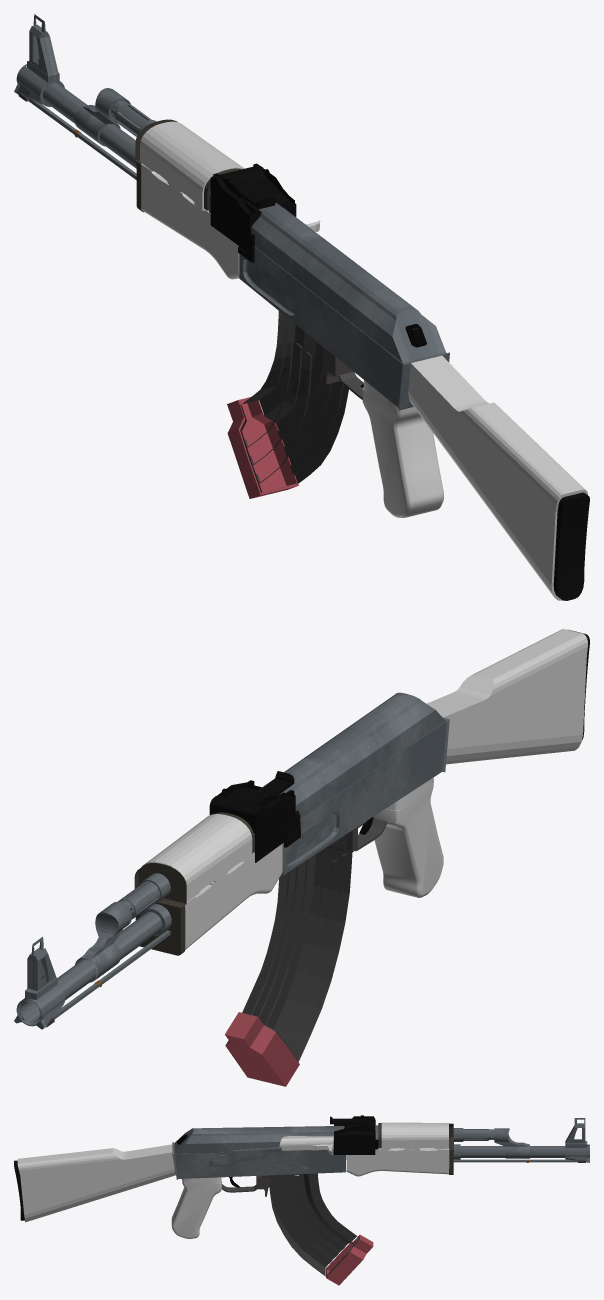
The picture shows the model from 3 angles, top to bottom: view 1: azimuth 30°, elevation 25°; view 2: azimuth 150°, elevation 25°; view 3: azimuth 270°, elevation 25°; orthographic projection. The views are drawn at different scales.
Visible parts, largest first — view 1: main, Smain1, base, iron 1, support part 2, part1; view 2: main, base, Smain1, iron 1, support part 2, part1; view 3: main, Smain1, base, iron 1, support part 2, part1, ejector.
Boxes of the visible parts, x1=… form: main: x1=209, y1=163, x2=449, y2=410; Smain1: x1=408, y1=355, x2=589, y2=600; base: x1=227, y1=311, x2=348, y2=498; iron 1: x1=135, y1=119, x2=244, y2=279; support part 2: x1=14, y1=14, x2=156, y2=179; part1: x1=362, y1=380, x2=443, y2=517; main: x1=209, y1=692, x2=449, y2=875; base: x1=225, y1=830, x2=352, y2=1086; Smain1: x1=427, y1=629, x2=589, y2=764; iron 1: x1=134, y1=812, x2=282, y2=955; support part 2: x1=14, y1=873, x2=171, y2=1029; part1: x1=373, y1=777, x2=443, y2=897; main: x1=172, y1=1115, x2=378, y2=1196; Smain1: x1=14, y1=1144, x2=175, y2=1222; base: x1=269, y1=1173, x2=373, y2=1285; iron 1: x1=346, y1=1122, x2=453, y2=1176; support part 2: x1=453, y1=1118, x2=589, y2=1162; part1: x1=171, y1=1177, x2=221, y2=1238; ejector: x1=279, y1=1136, x2=333, y2=1155.
Bounding box in the file's own units: 36.34 × 150 × 483.
